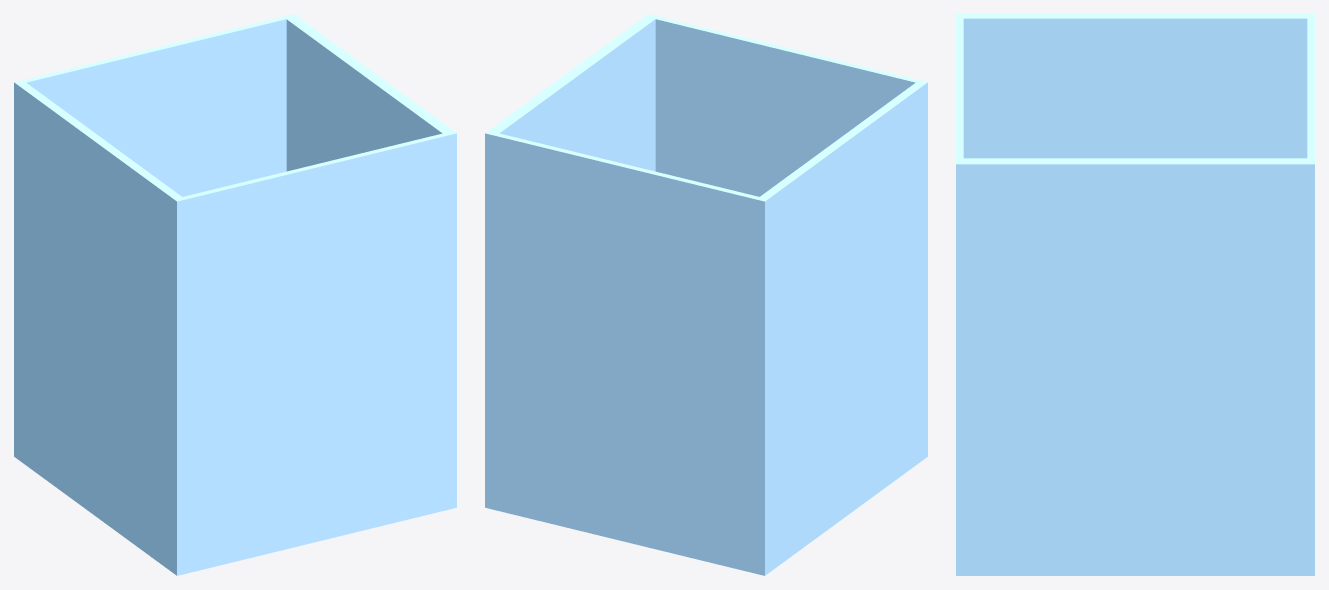
The model's file is hospital2.fbx.
3 views of the same model, side by side, from view 1: azimuth 30°, elevation 25°; view 2: azimuth 150°, elevation 25°; view 3: azimuth 270°, elevation 25° (orthographic). The views are drawn at different scales.
Parts seen in each view (by area): view 1: Cube.010; view 2: Cube.010; view 3: Cube.010.
Boxes of the visible parts, x1=… form: Cube.010: x1=14, y1=14, x2=456, y2=575; Cube.010: x1=485, y1=14, x2=927, y2=575; Cube.010: x1=956, y1=14, x2=1314, y2=575.
Bounding box in the file's own units: 4540 × 4499 × 5751.
